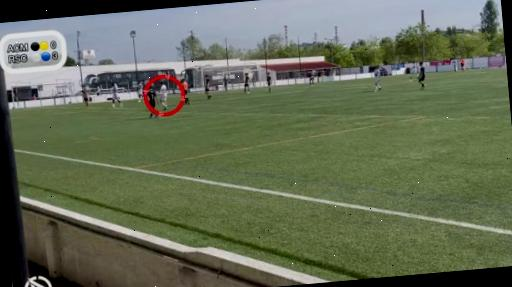highlight_overlay: (140, 71, 190, 117)
